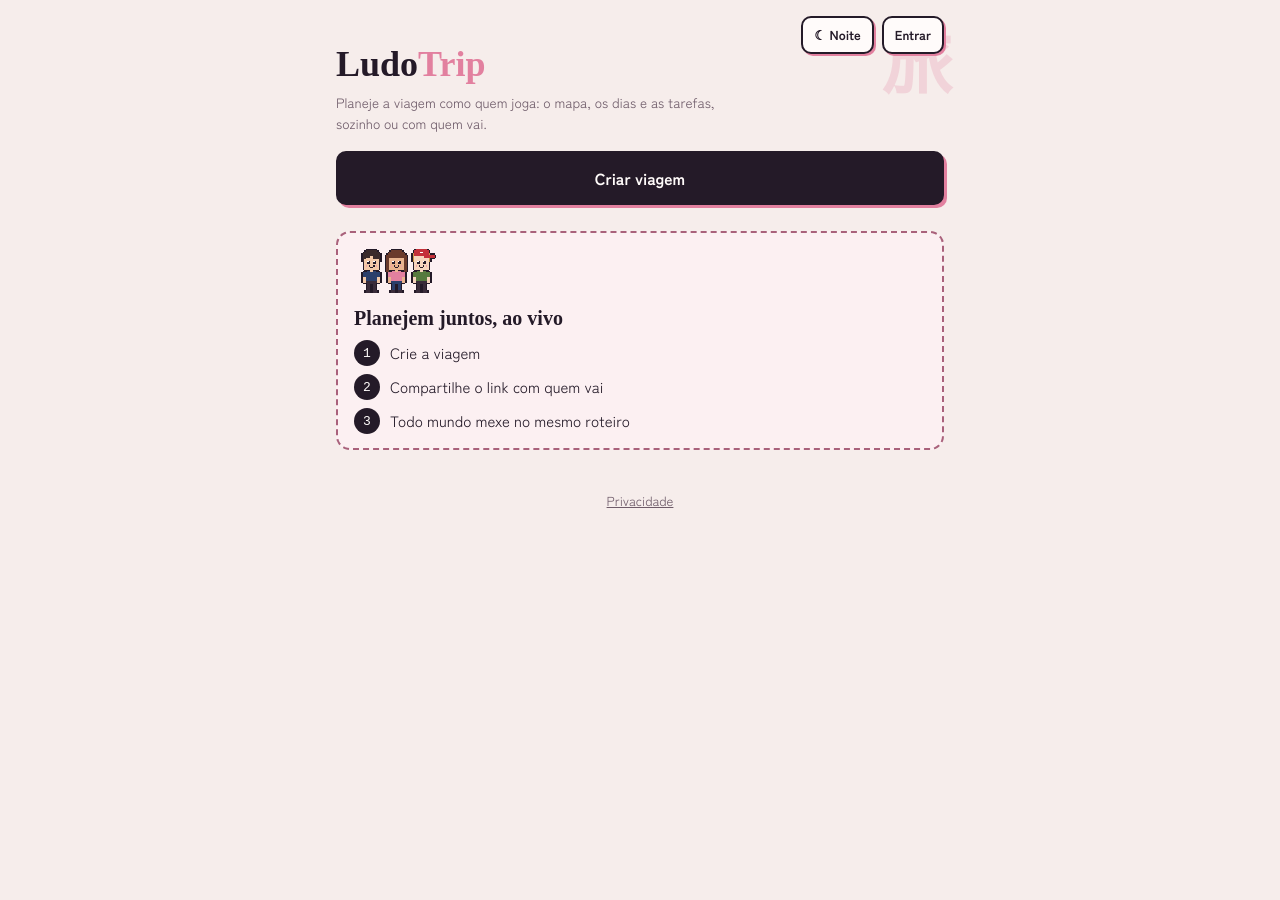
Test: ENTRAR › link por e-mail: só envia e-mail válido; depois, "neste mesmo celular", Reenviar espera e Trocar e-mail volta
Click the button "Entrar".
click(913, 35)  # box [882, 16, 944, 54]
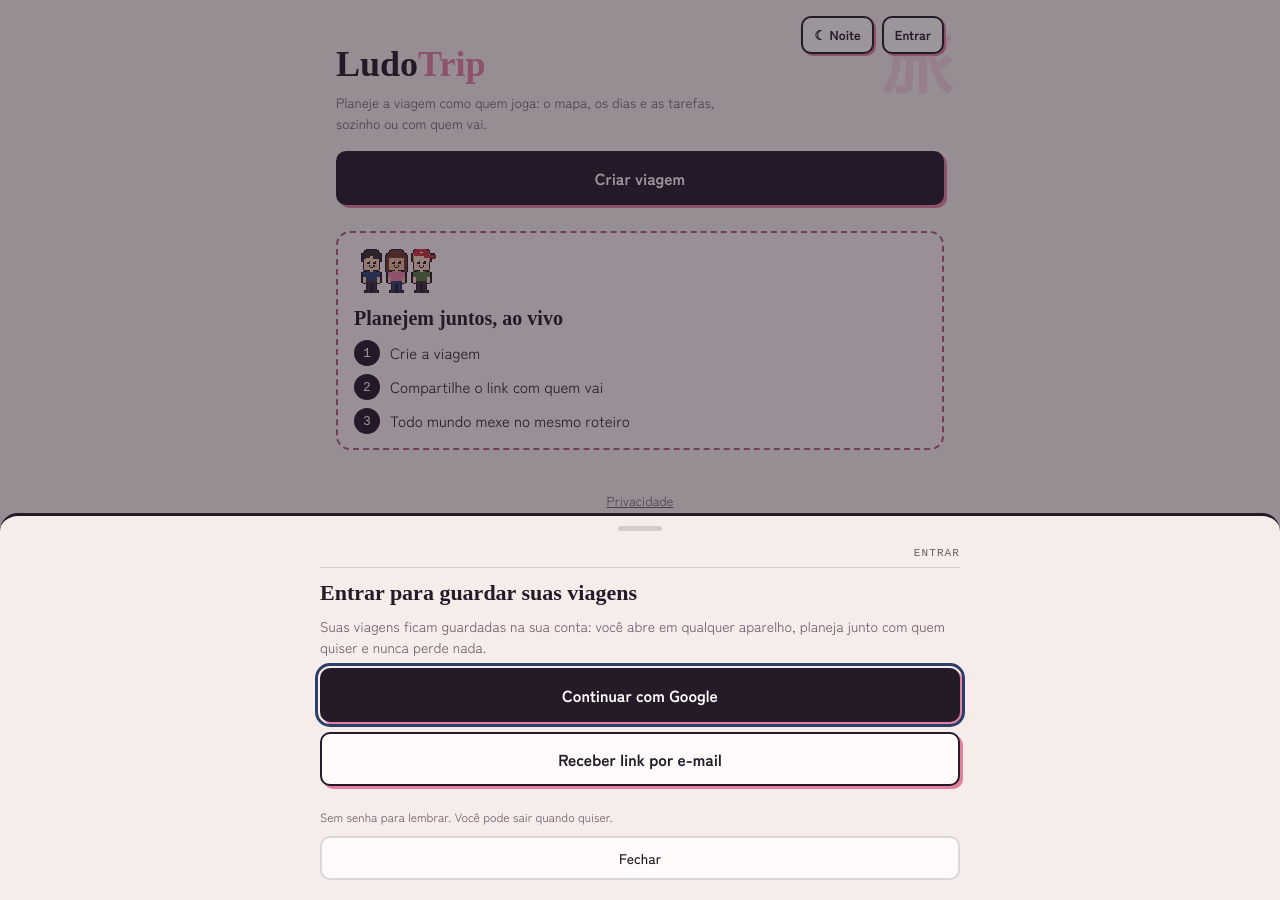
Click the button "Receber link por e-mail".
click(640, 759)  # box [320, 732, 960, 786]
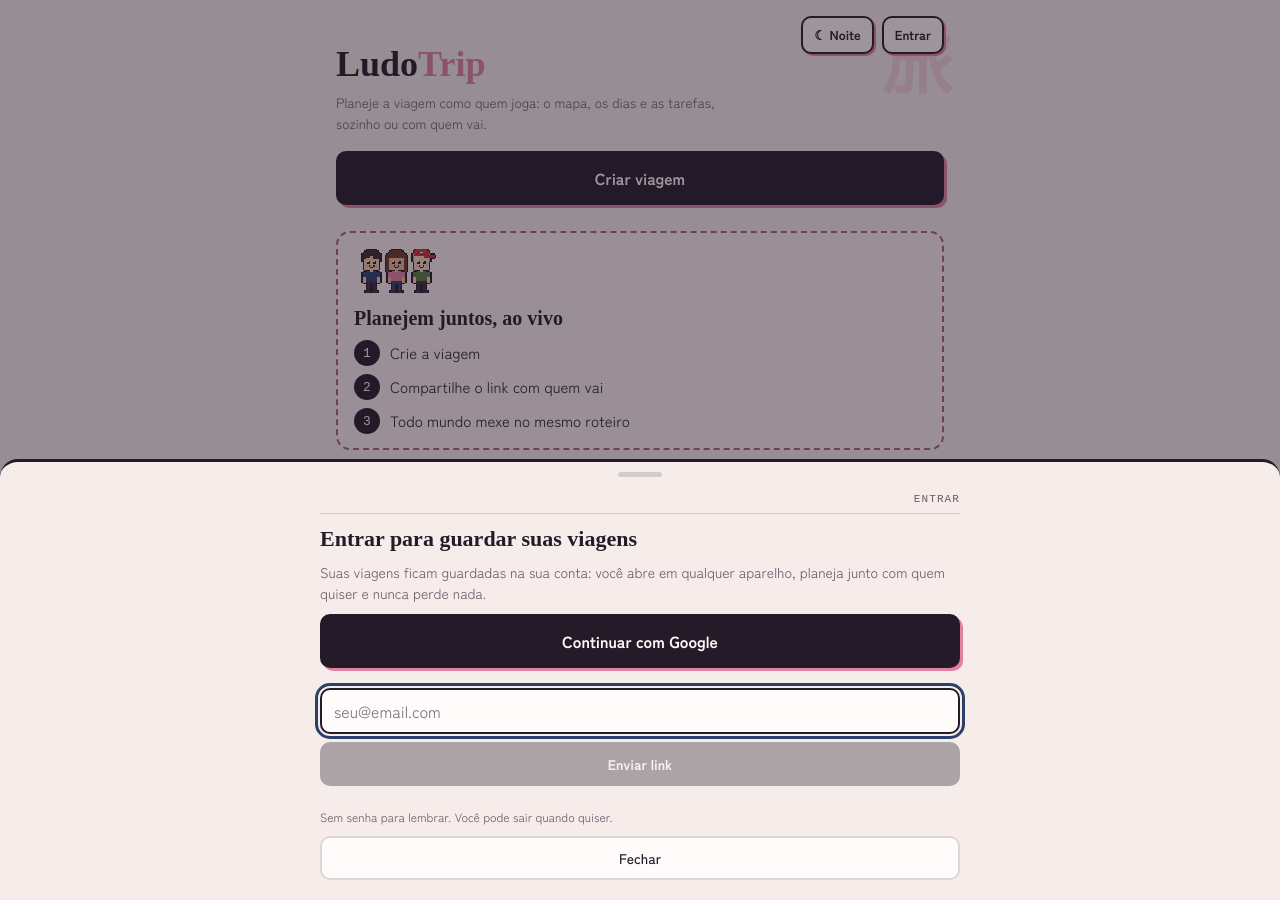
Type "ana@" into the field named "Seu e-mail".
click(640, 711); type("ana@")  # box [320, 688, 960, 734]
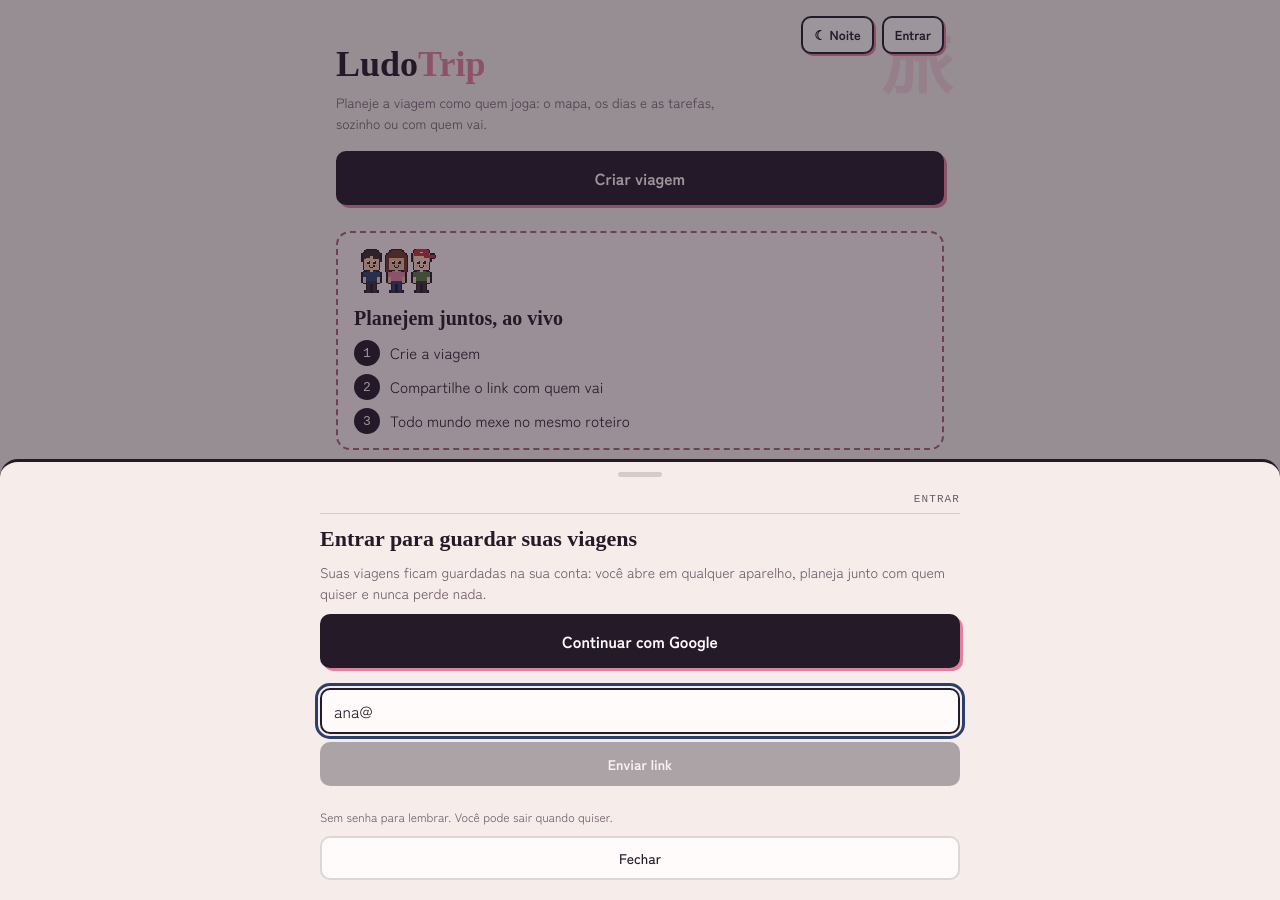
Expected: the button "Enviar link" is disabled, [320, 742, 960, 786]
Replace the text in the field named "Seu e-mail" with "ana@exemplo.com" at [640, 711], box [320, 688, 960, 734]
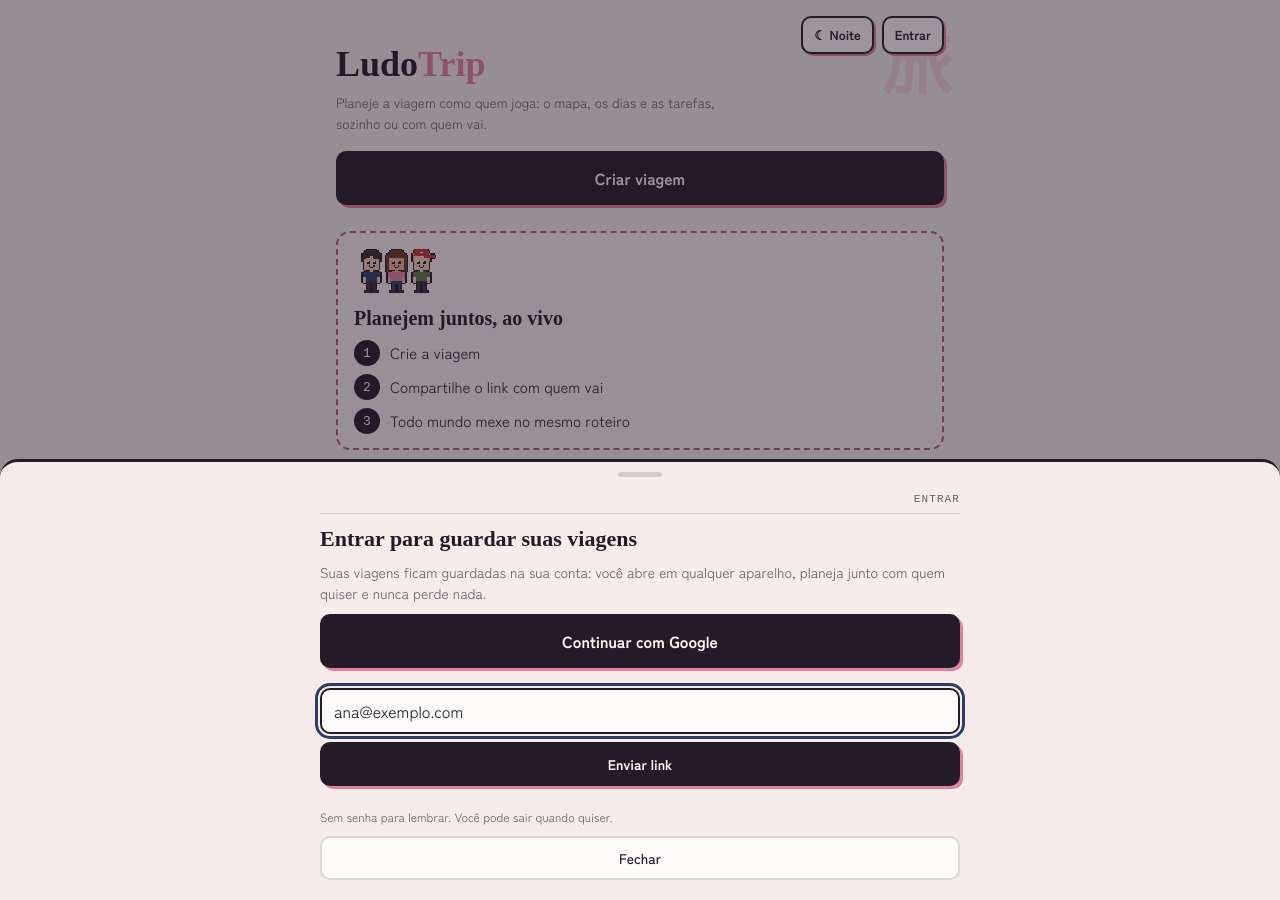
Click the button "Enviar link".
click(640, 764)  # box [320, 742, 960, 786]
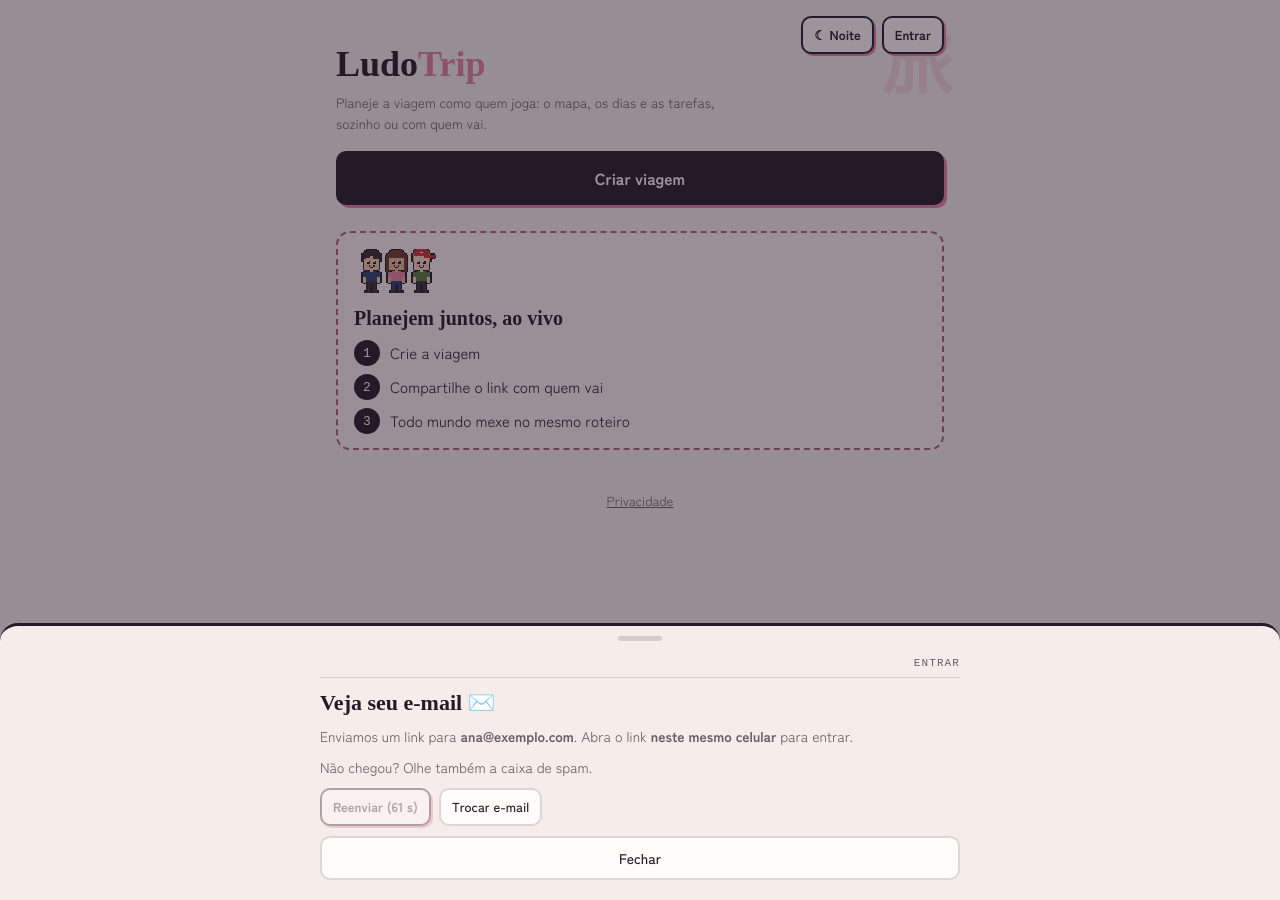
Expected: the heading "Veja seu e-mail ✉️" is shown, [320, 690, 495, 715]
Expected: the text "neste mesmo celular" is shown, [651, 726, 776, 746]
Expected: the button "Reenviar (61 s)" is disabled, [320, 788, 431, 826]
Click the button "Trocar e-mail".
click(491, 807)  # box [439, 788, 542, 826]
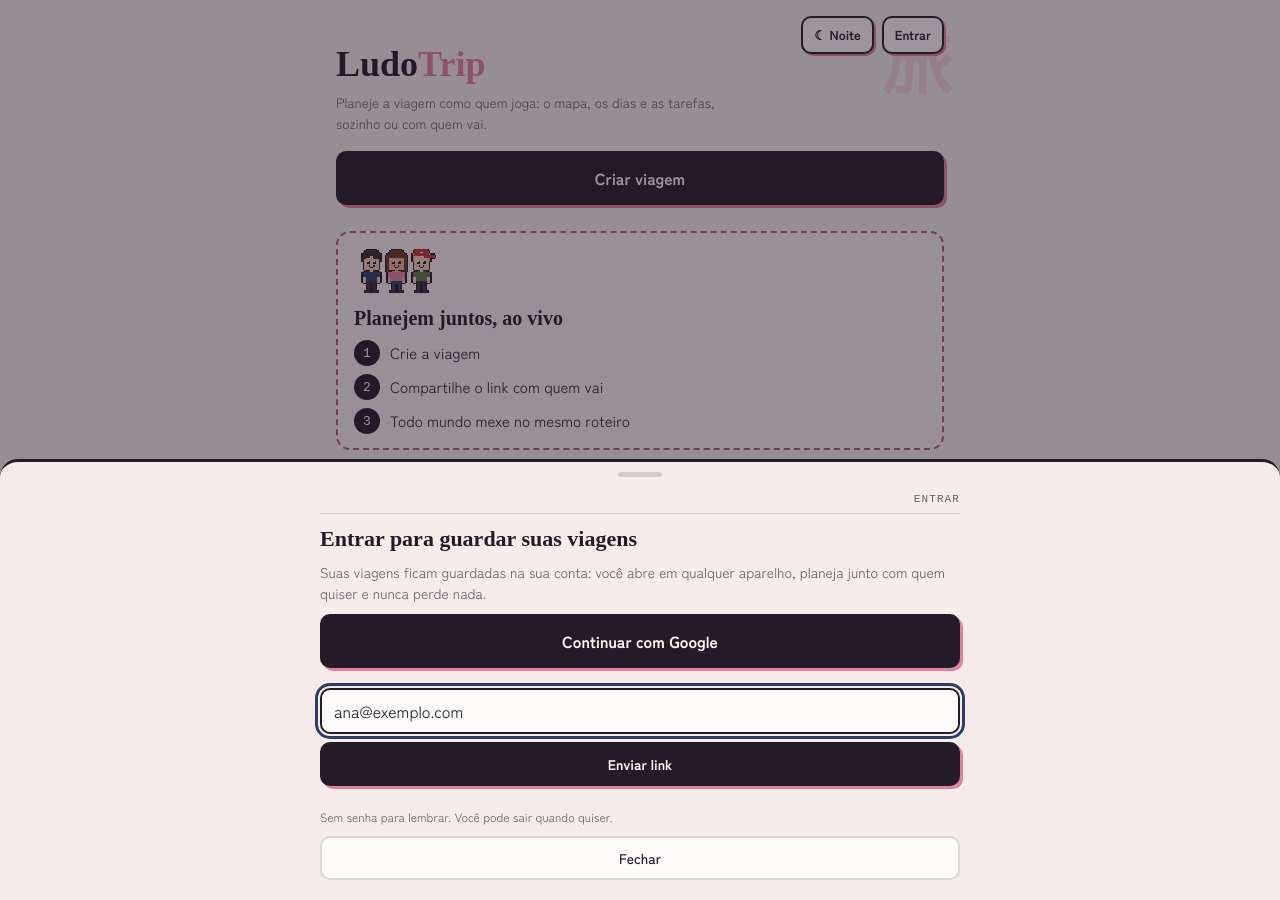
Expected: the field named "Seu e-mail" holds "ana@exemplo.com", [320, 688, 960, 734]
